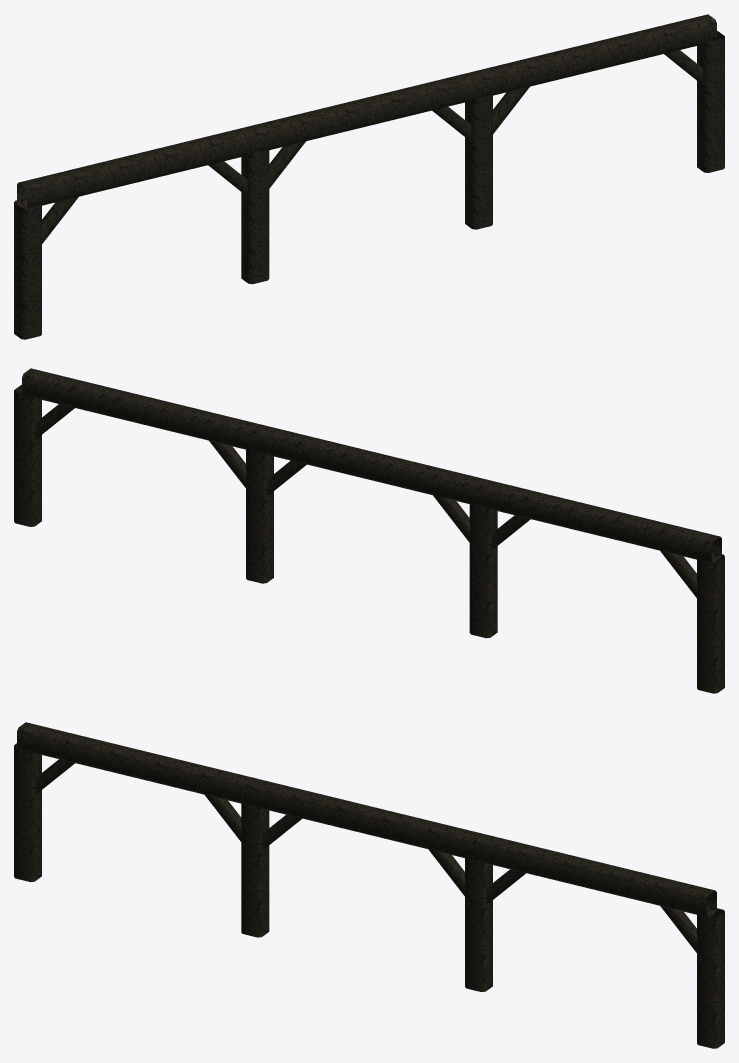
Rendered from collapse_beams.DAE.
3 views of the same model, one above another, from view 1: azimuth 30°, elevation 25°; view 2: azimuth 150°, elevation 25°; view 3: azimuth 330°, elevation 25° (orthographic).
Parts seen in each view (by area): view 1: Box009; view 2: Box009; view 3: Box009.
Part boxes in pixels (x1,y1,x2,y2): Box009: (14, 14, 724, 339); Box009: (14, 368, 724, 693); Box009: (14, 722, 724, 1048).
Bounding box in the file's own units: 19.44 × 3.97 × 0.5.
